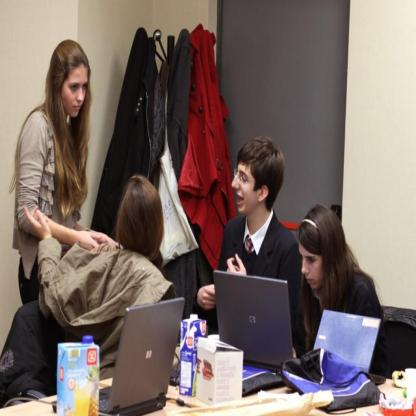board: (51, 296, 187, 415), (212, 272, 299, 376), (312, 308, 386, 382), (58, 336, 99, 416), (182, 314, 206, 396)
